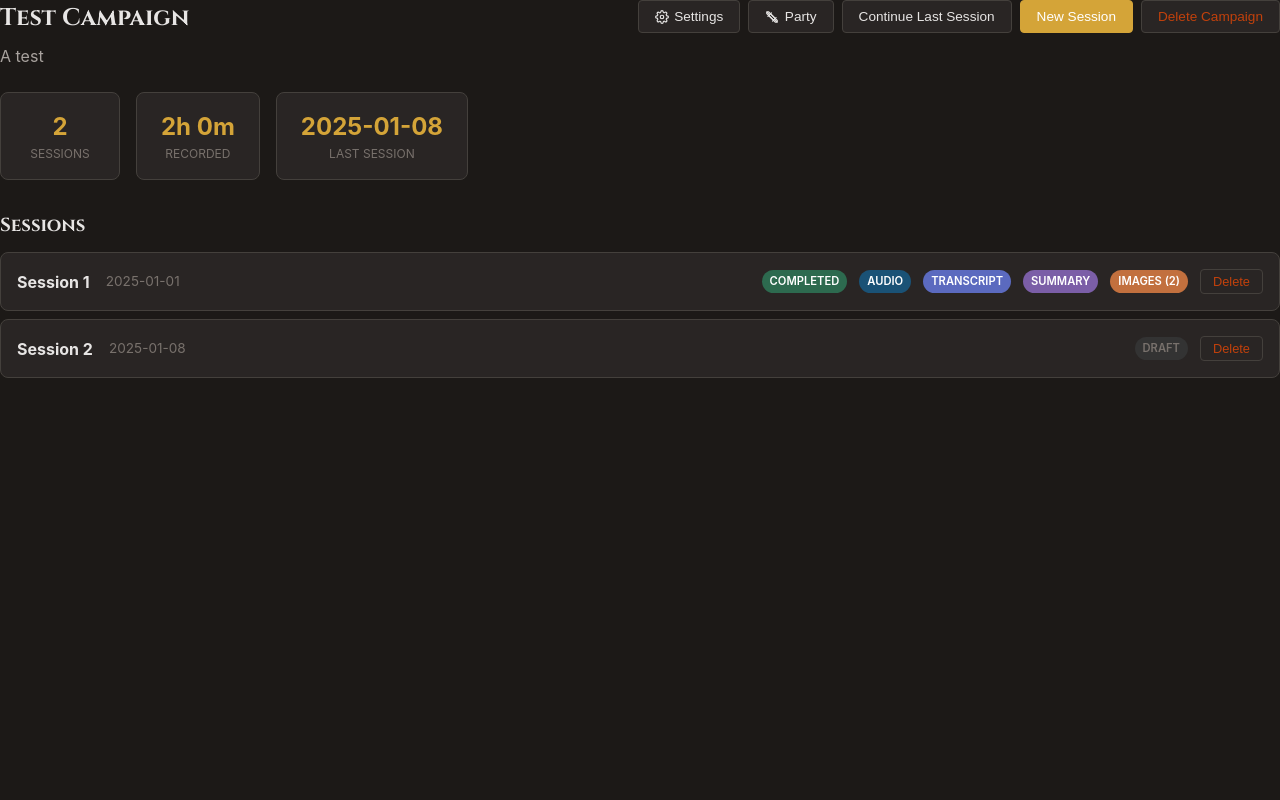
Test: CampaignDashboard › shows delete session confirm when delete button is clicked
Click the button "Delete" next to "Images (2)".
click(1232, 282)  # box x1=1200 y1=269 x2=1263 y2=294
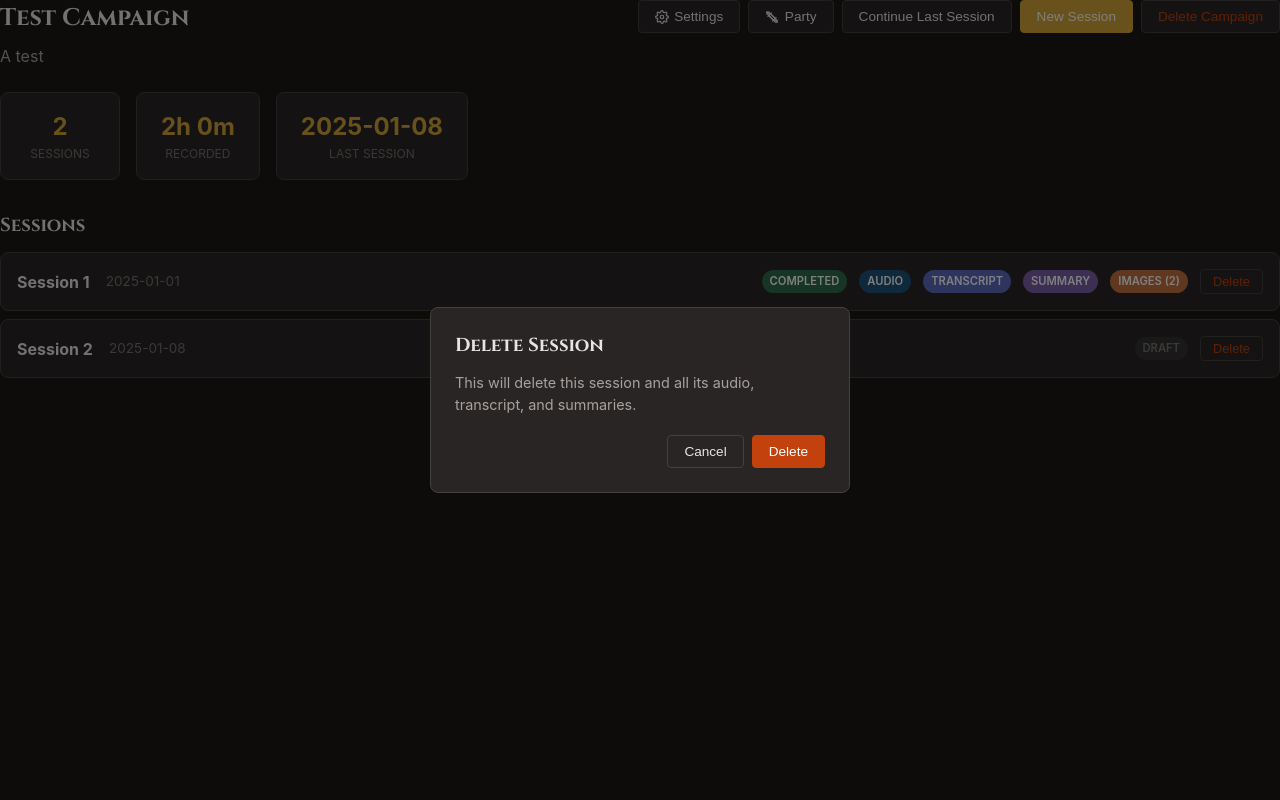
Now the heading "Delete Session" is shown, box x1=455 y1=333 x2=604 y2=358
